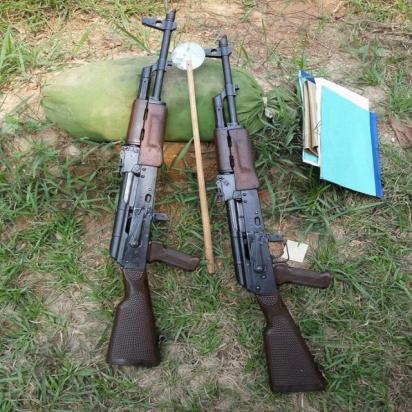Gun: (204, 34, 334, 393), (104, 11, 199, 368)
